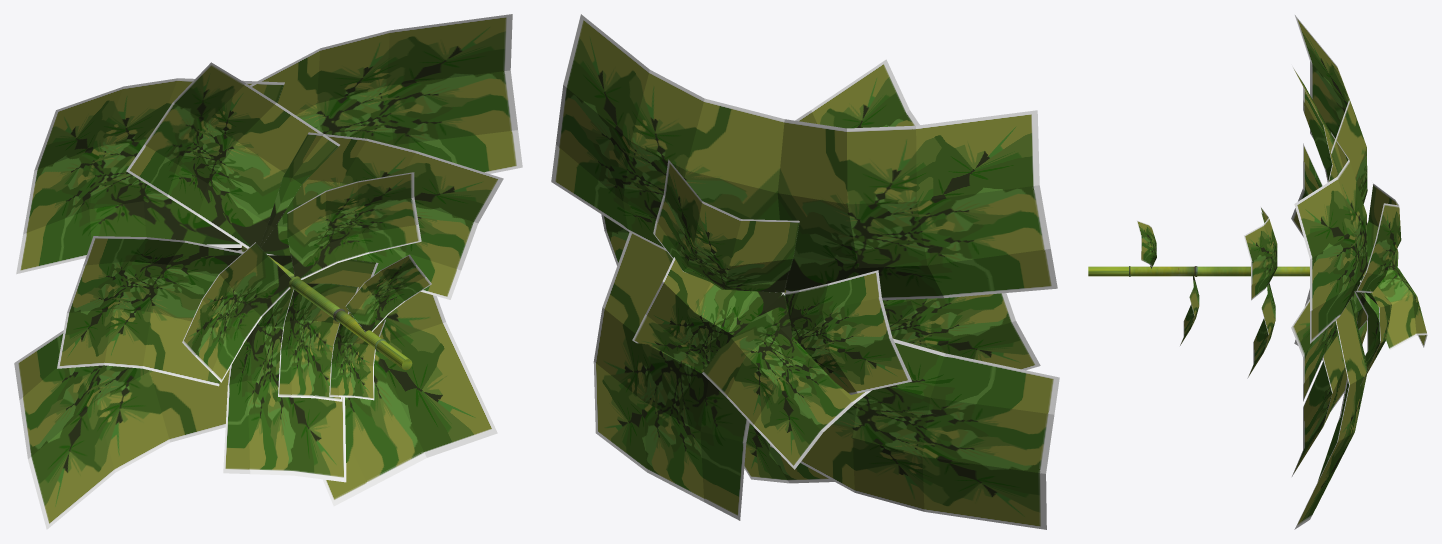
File: BamboojointedLODRotated.fbx
The picture shows the model from 3 angles, left to right: view 1: azimuth 30°, elevation 25°; view 2: azimuth 150°, elevation 25°; view 3: azimuth 270°, elevation 25°; orthographic projection. The views are drawn at different scales.
Parts seen in each view (by area): view 1: BambooStraight_mesh_LOD0; view 2: BambooStraight_mesh_LOD0; view 3: BambooStraight_mesh_LOD0.
Part boxes in pixels (x1,y1,x2,y2): BambooStraight_mesh_LOD0: (14, 14, 522, 529); BambooStraight_mesh_LOD0: (551, 14, 1059, 529); BambooStraight_mesh_LOD0: (1088, 15, 1427, 529).
Size of what is drawn, in the model's own units: 3665 by 3345 by 2652.
